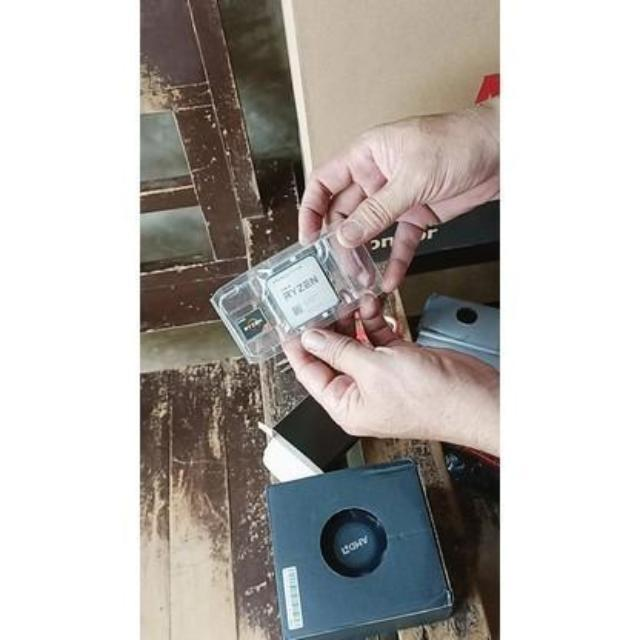CPU: (265, 258, 340, 326)
